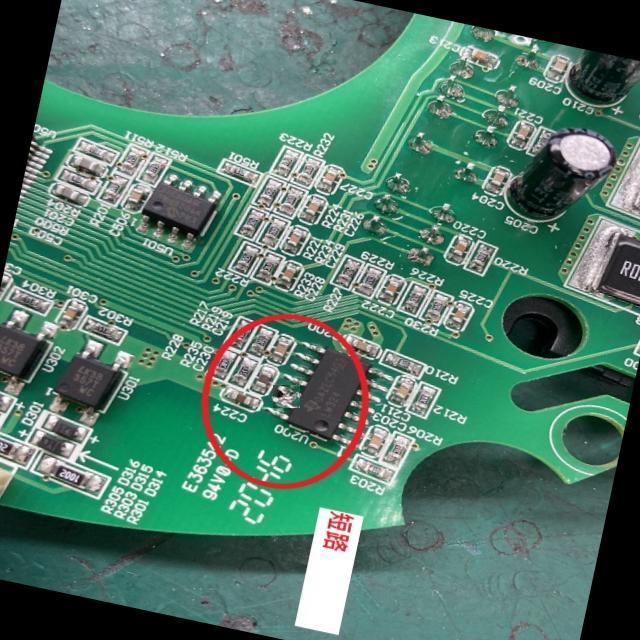Short_circuit: (272, 385, 300, 408)
